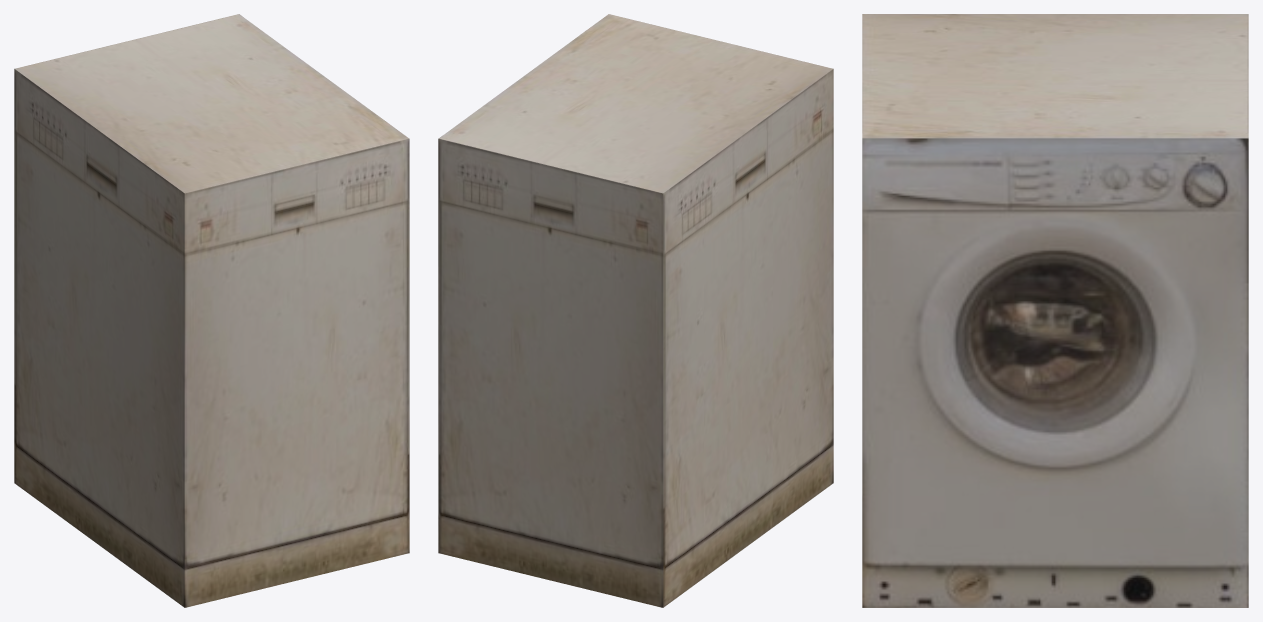
The model's file is psx_washing_machine.glb.
3 renders of one model, left to right at view 1: azimuth 30°, elevation 25°; view 2: azimuth 150°, elevation 25°; view 3: azimuth 270°, elevation 25°, orthographic. The views are drawn at different scales.
Visible parts, largest first — view 1: PSX Washing Machine; view 2: PSX Washing Machine; view 3: PSX Washing Machine.
Part boxes in pixels (x1,y1,x2,y2): PSX Washing Machine: (14, 14, 409, 607); PSX Washing Machine: (438, 14, 833, 607); PSX Washing Machine: (862, 14, 1248, 607).
Size of the model in its own units: 0.6608 by 1.16 by 0.8676.
1 material, 1 textured.
